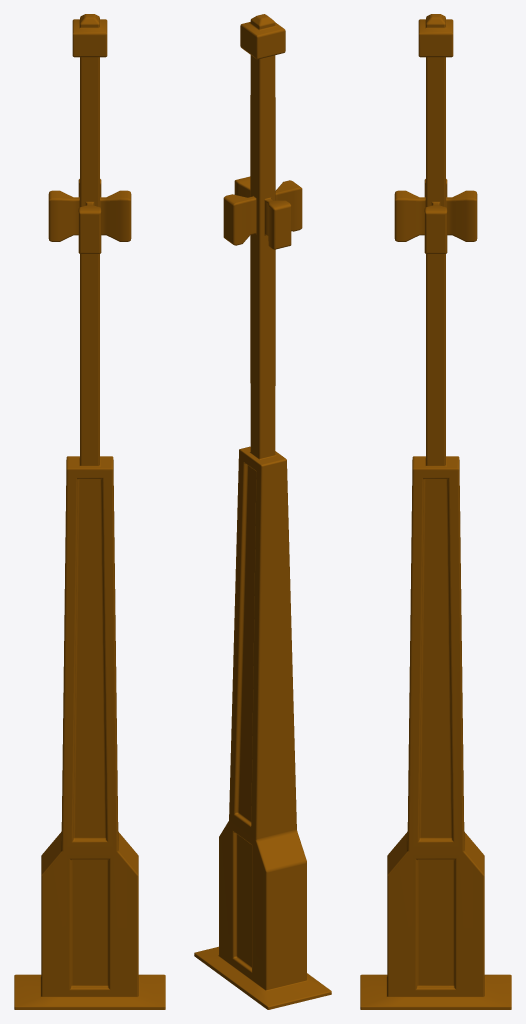
File: Street_Lamp_02.fbx
The picture shows the model from 3 angles, left to right: view 1: azimuth 90°, elevation 25°; view 2: azimuth 210°, elevation 25°; view 3: azimuth 270°, elevation 25°; orthographic projection. The views are drawn at different scales.
Visible parts, largest first — view 1: Street_Lamp_02; view 2: Street_Lamp_02; view 3: Street_Lamp_02.
Part boxes in pixels (box(x1,y1,x2,y2)): Street_Lamp_02: box(14, 14, 165, 1009); Street_Lamp_02: box(194, 14, 331, 1009); Street_Lamp_02: box(360, 14, 511, 1009).
Size of the model in its own units: 83.93 by 1106 by 155.
